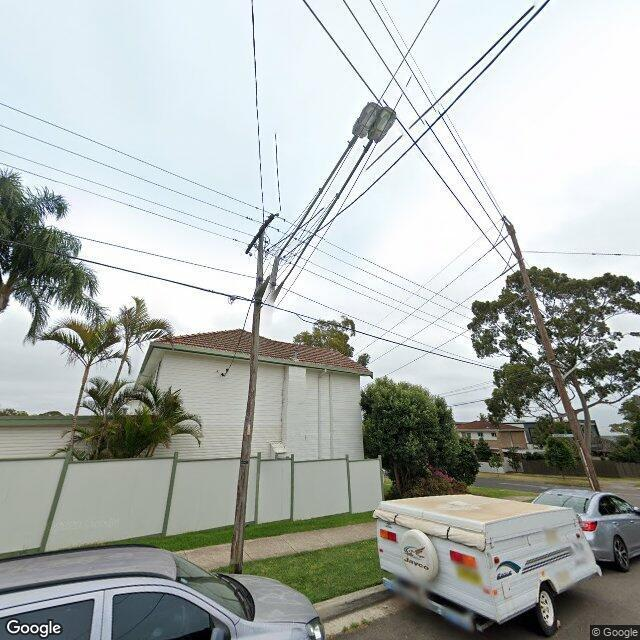crossarm: (242, 213, 278, 255)
streetlight: (259, 103, 395, 299)
timber-pole: (507, 221, 600, 493), (229, 231, 264, 576)
